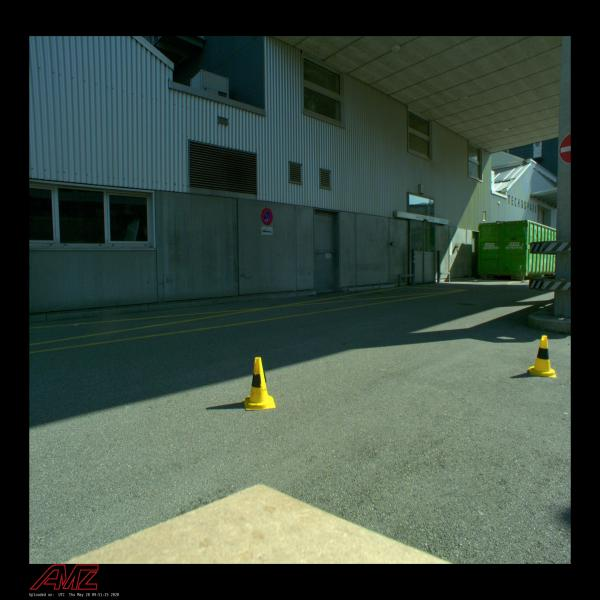yellow_cone: (243, 358, 276, 410), (528, 336, 557, 378)
